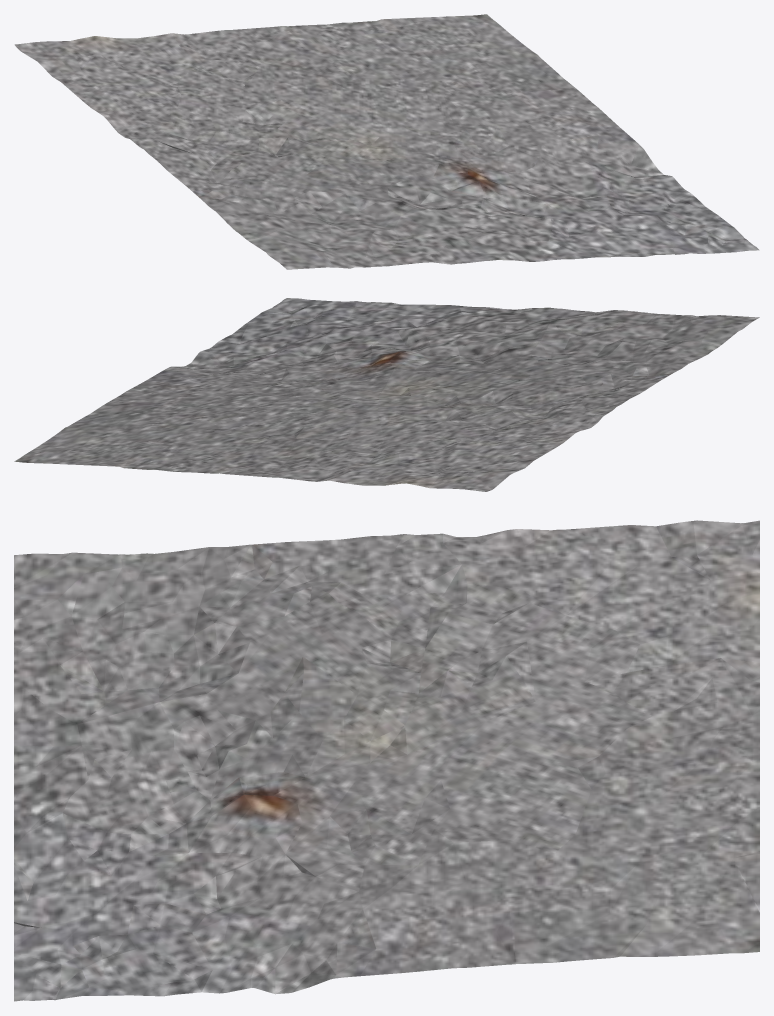
3 views of the same model, one above another, from view 1: azimuth 30°, elevation 25°; view 2: azimuth 150°, elevation 25°; view 3: azimuth 270°, elevation 25° (orthographic). The views are drawn at different scales.
Size of the model in its own units: 0.8374 by 0.2053 by 0.8374.
3 materials, 3 textured.
